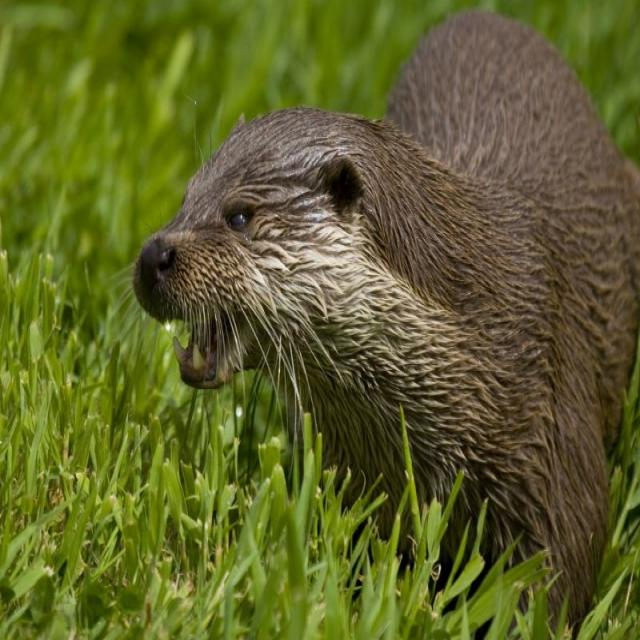otter: (133, 11, 640, 640)
